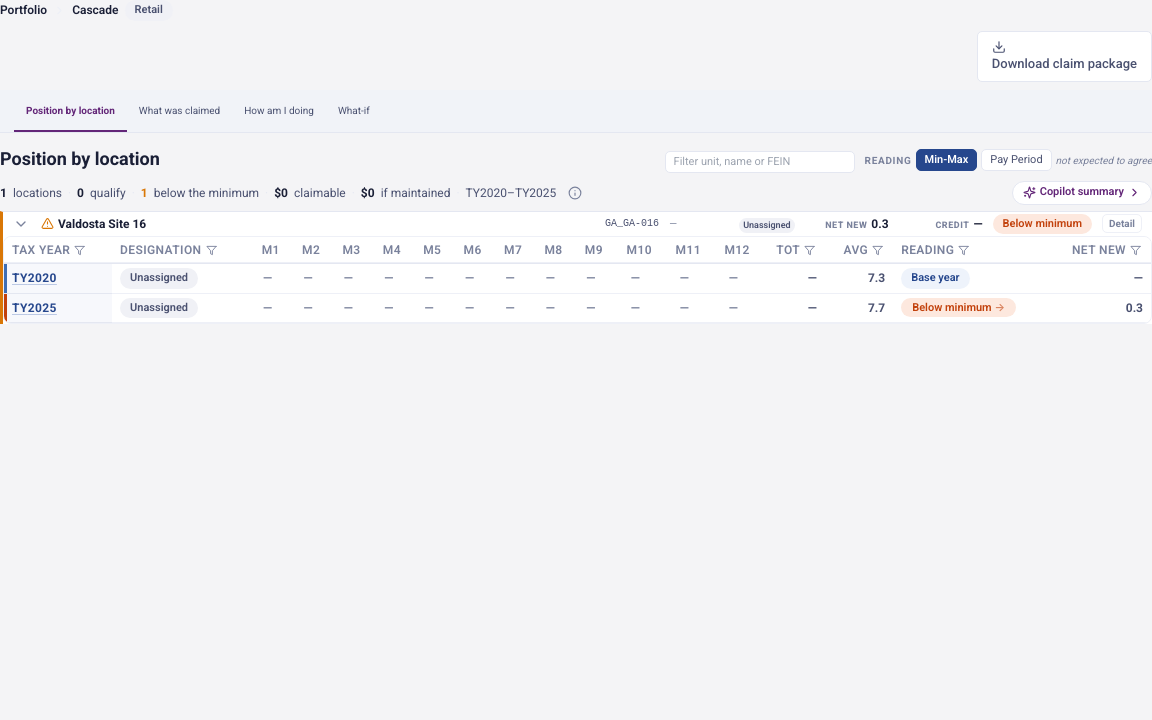
Test case: a client page carries the questions that need a single client › a Below minimum pill opens What-if on that location, pre-filled and run
Click the button with aria-label "Below minimum: open What-if for GA_GA-016 TY2025". click: (959, 308)
box: x1=901 y1=298 x2=1016 y2=317
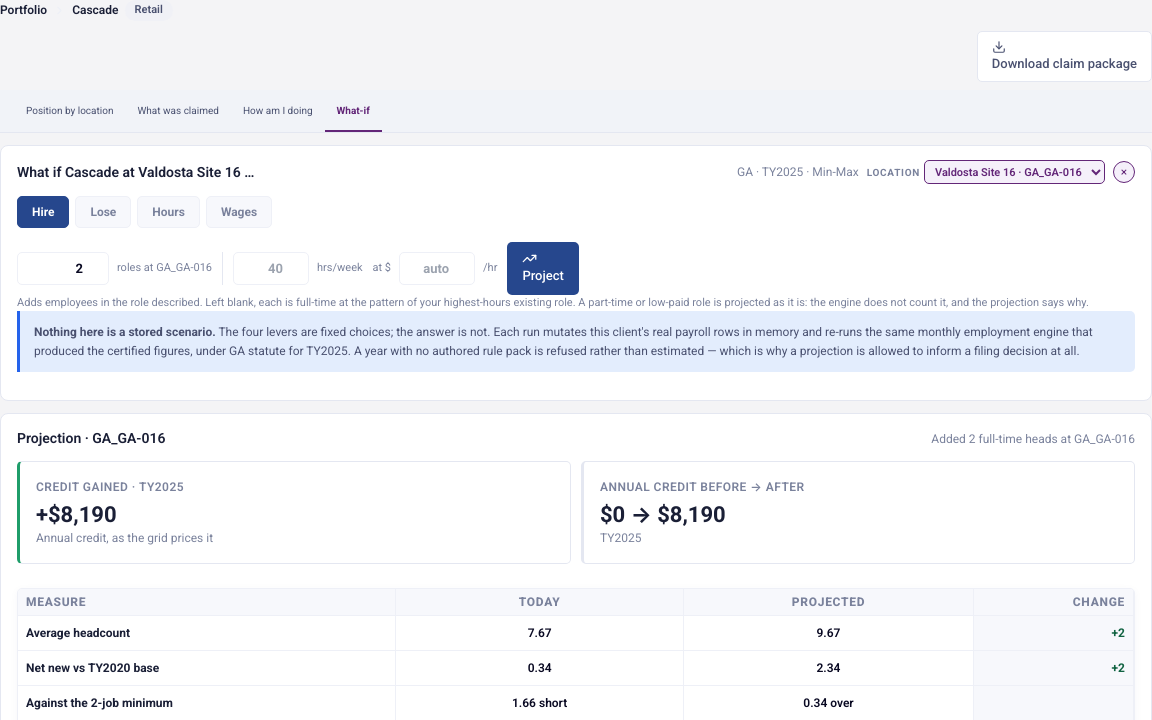
Now the dropdown named "Filter the what-if to one location" shows "Valdosta Site 16 · GA_GA-016", box x1=924 y1=160 x2=1105 y2=184
Now the text "Projection · GA_GA-016" is shown, box x1=17 y1=428 x2=166 y2=449
